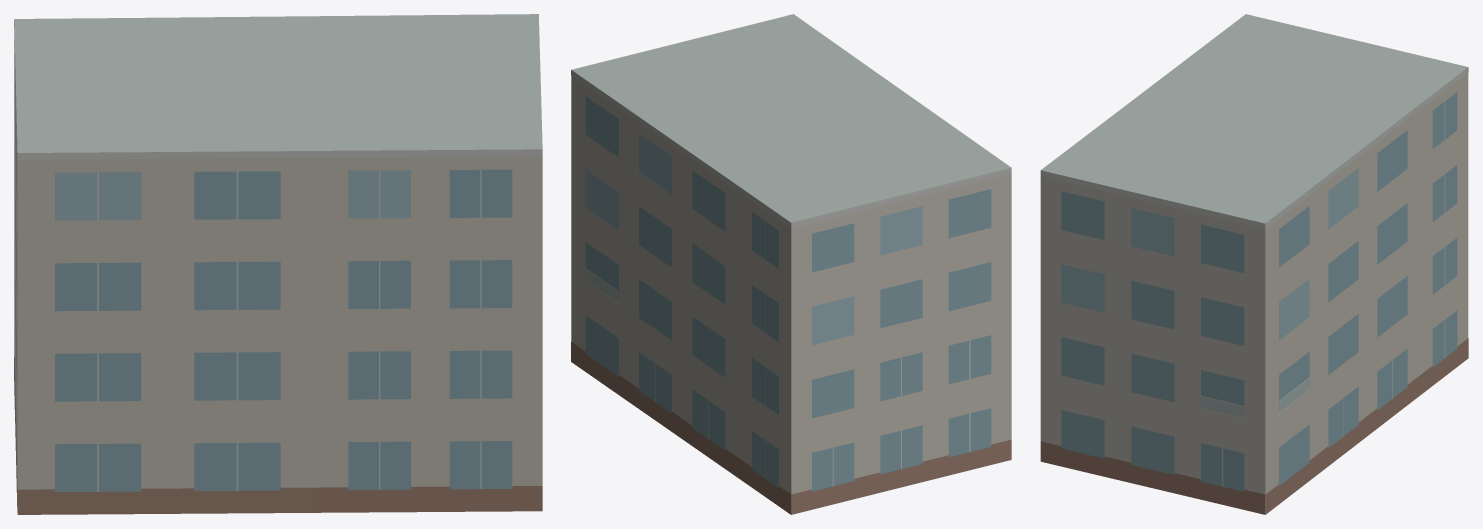
The model's file is survey-upis-32876001.glb.
3 views of the same model, side by side, from view 1: azimuth 30°, elevation 25°; view 2: azimuth 150°, elevation 25°; view 3: azimuth 270°, elevation 25° (orthographic). The views are drawn at different scales.
Parts seen in each view (by area): view 1: survey-upis-32876001.tmp; view 2: survey-upis-32876001.tmp; view 3: survey-upis-32876001.tmp.
Boxes of the visible parts, x1,y1,x2,y2 form: survey-upis-32876001.tmp: [14, 14, 542, 514]; survey-upis-32876001.tmp: [571, 14, 1011, 514]; survey-upis-32876001.tmp: [1040, 14, 1468, 514].
Size of the model in its own units: 19.76 by 12.8 by 17.04.
